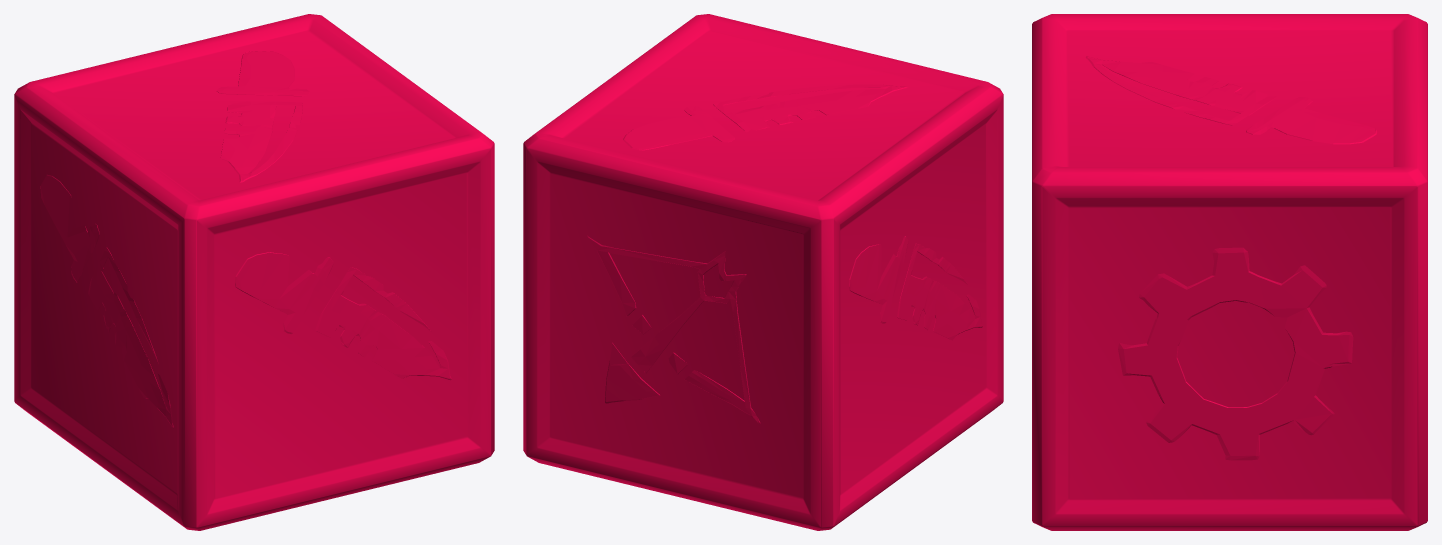
File: attack.fbx
The picture shows the model from 3 angles, left to right: view 1: azimuth 30°, elevation 25°; view 2: azimuth 150°, elevation 25°; view 3: azimuth 270°, elevation 25°; orthographic projection. The views are drawn at different scales.
Parts seen in each view (by area): view 1: Object001; view 2: Object001; view 3: Object001.
Boxes of the visible parts, x1,y1,x2,y2 form: Object001: (14, 14, 494, 530); Object001: (523, 14, 1003, 530); Object001: (1032, 14, 1427, 530).
Size of the model in its own units: 80 by 80 by 80.
